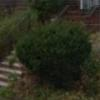stairs: (54, 3, 100, 24)
